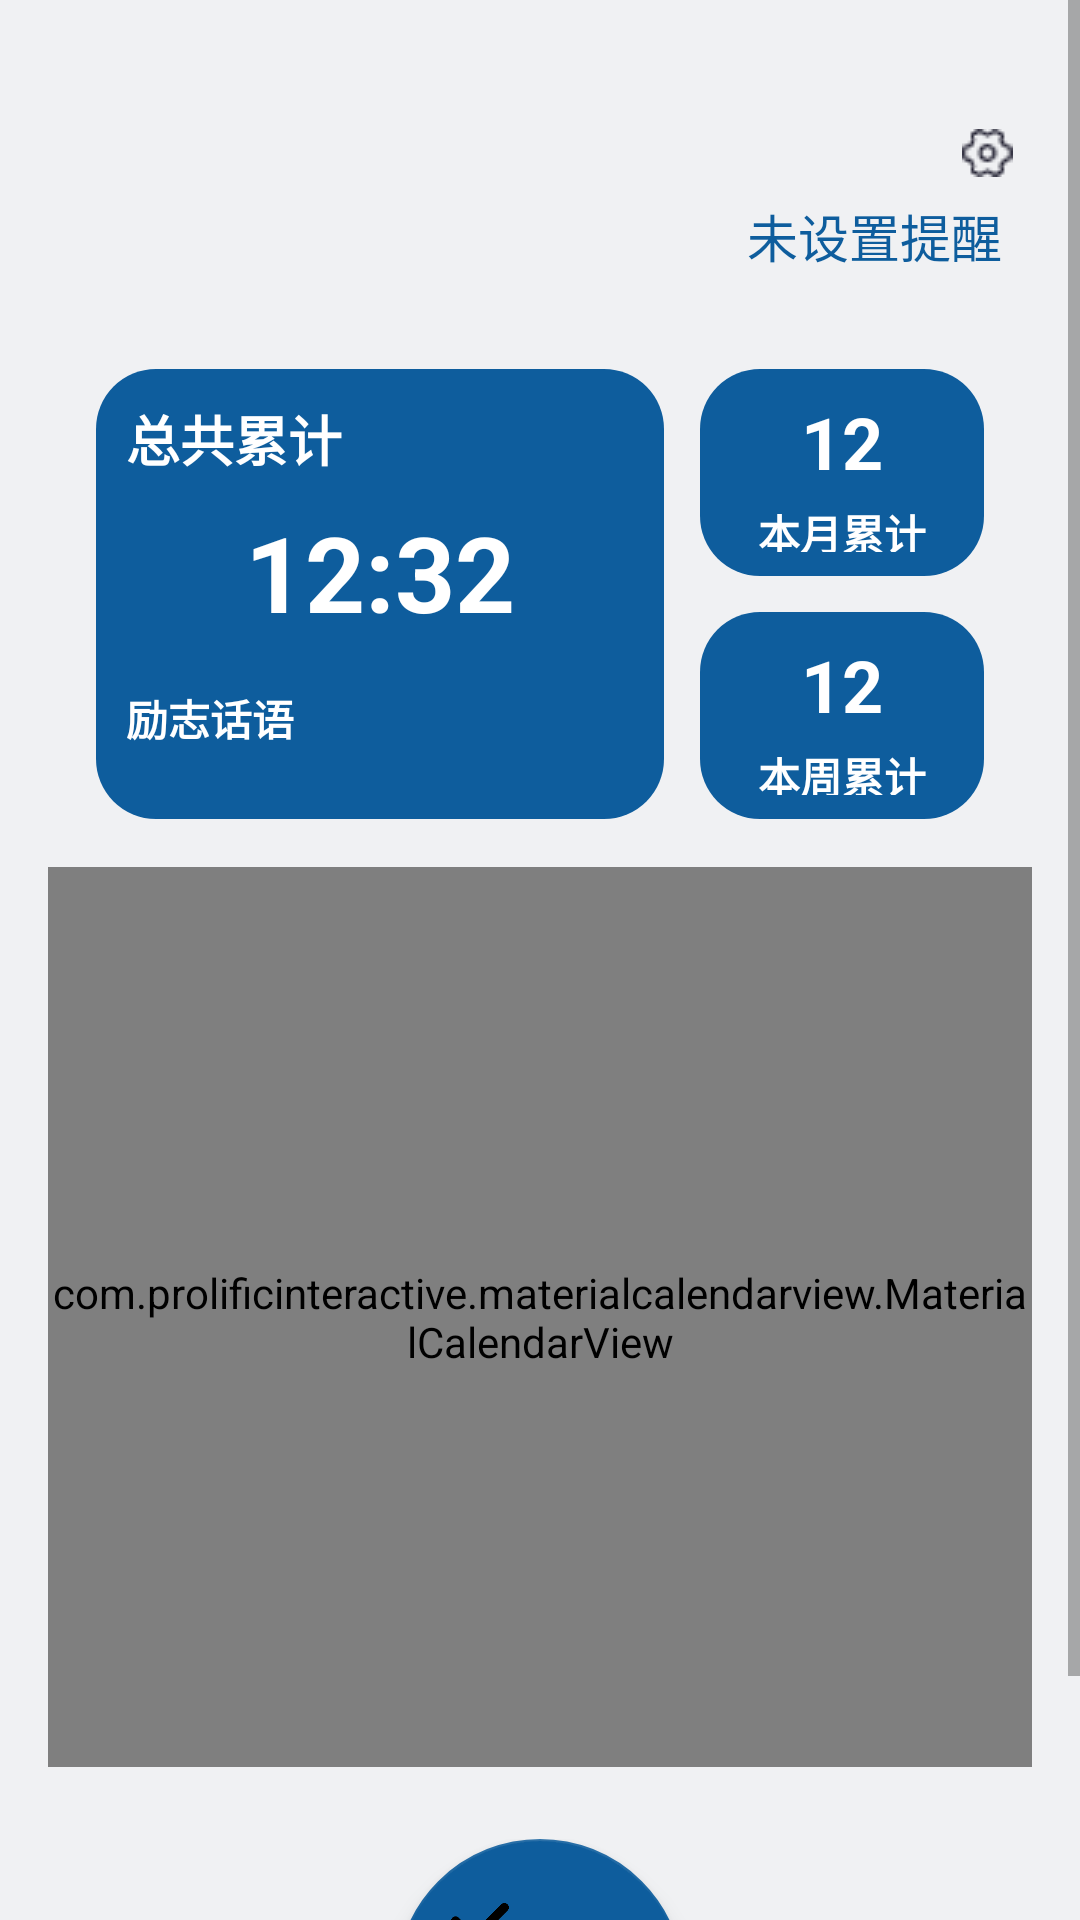

Where icons sit on this 1080 x 1920 app screen, as [x1=x1, y1=y1, x2=x2, y2=y2]:
check setting: [x1=962, y1=129, x2=1013, y2=177]
